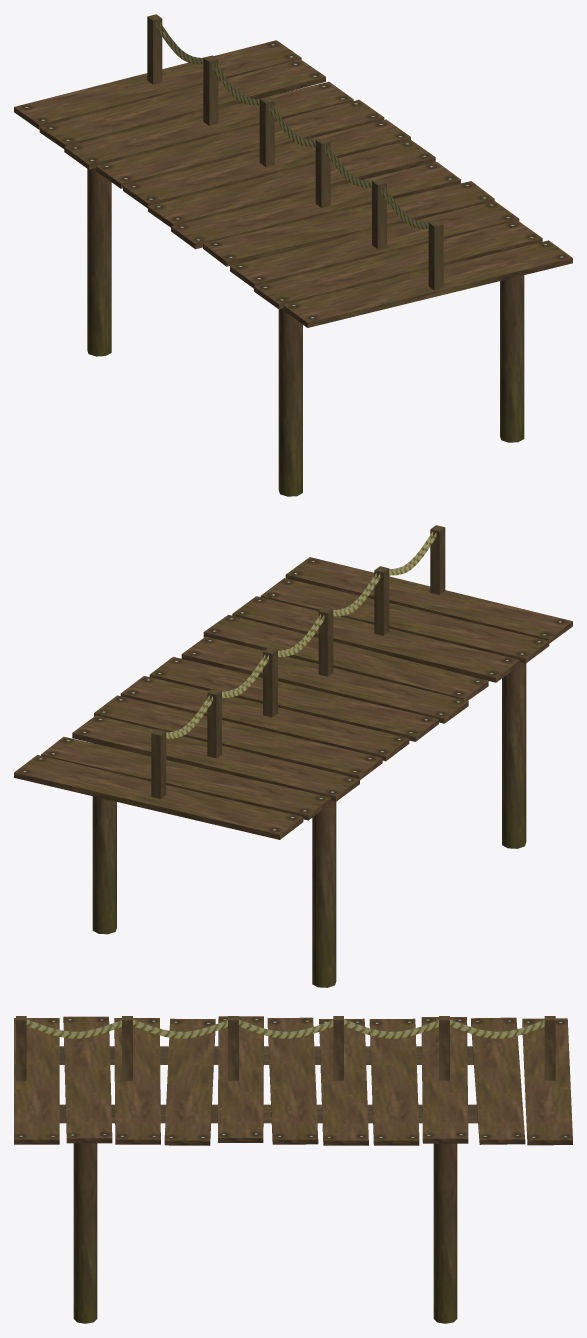
The model's file is ChBeam.fbx.
The picture shows the model from 3 angles, top to bottom: view 1: azimuth 30°, elevation 25°; view 2: azimuth 150°, elevation 25°; view 3: azimuth 270°, elevation 25°; orthographic projection. The views are drawn at different scales.
Parts seen in each view (by area): view 1: ChBeam_1, ChBeam_2; view 2: ChBeam_1, ChBeam_2; view 3: ChBeam_1, ChBeam_2.
Boxes of the visible parts, bbox=[...] form: ChBeam_1: bbox=[14, 40, 572, 496]; ChBeam_2: bbox=[147, 14, 443, 290]; ChBeam_1: bbox=[14, 557, 572, 987]; ChBeam_2: bbox=[151, 525, 445, 798]; ChBeam_1: bbox=[14, 1016, 572, 1323]; ChBeam_2: bbox=[16, 1016, 555, 1080].
Size of the model in its own units: 2492 by 2332 by 4724.
Materials: 1 (1 with a texture image).
